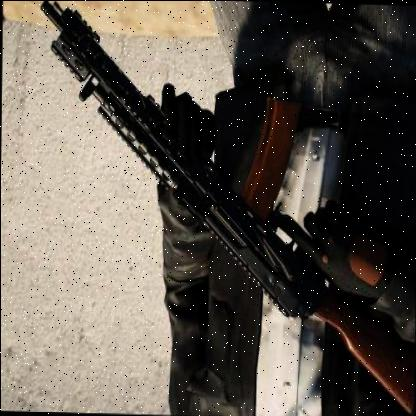rifle: (38, 7, 416, 382)
